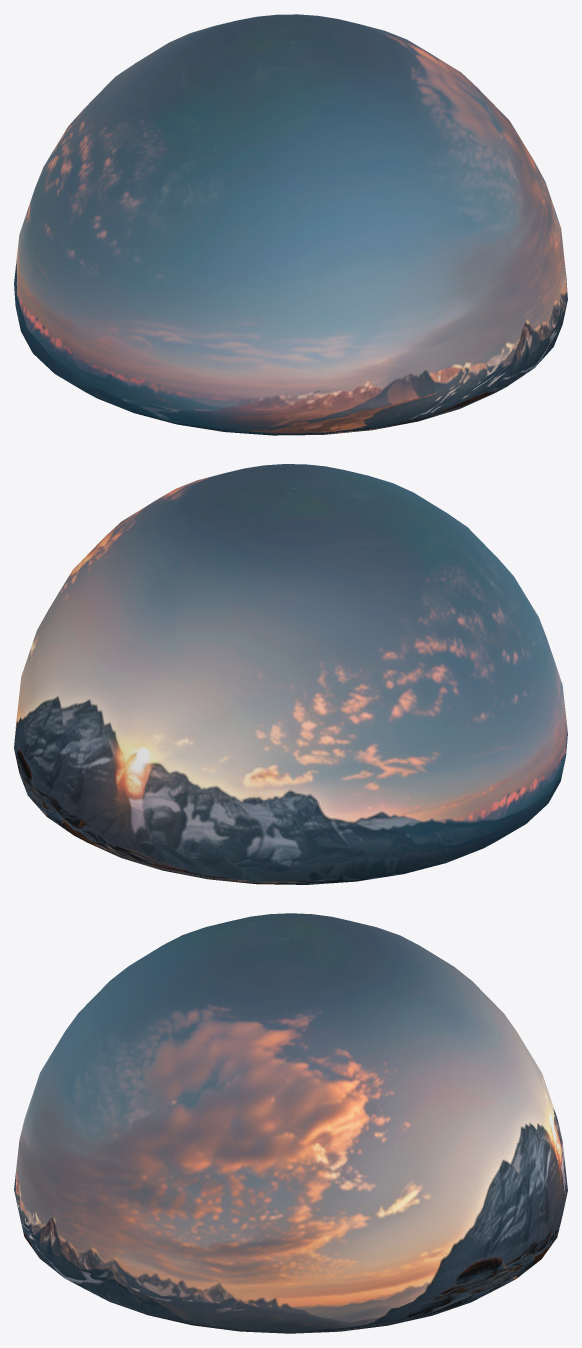
Rendered from mountain-sky-dome.glb.
3 views of the same model, one above another, from view 1: azimuth 30°, elevation 25°; view 2: azimuth 150°, elevation 25°; view 3: azimuth 270°, elevation 25° (orthographic).
Visible parts, largest first — view 1: mountain-sky-dome; view 2: mountain-sky-dome; view 3: mountain-sky-dome.
Part boxes in pixels (x1,y1,x2,y2): mountain-sky-dome: [14, 14, 567, 435]; mountain-sky-dome: [14, 464, 567, 884]; mountain-sky-dome: [14, 913, 567, 1333].
Bounding box in the file's own units: 90 × 57.67 × 90.
Materials: 1 (1 with a texture image).
